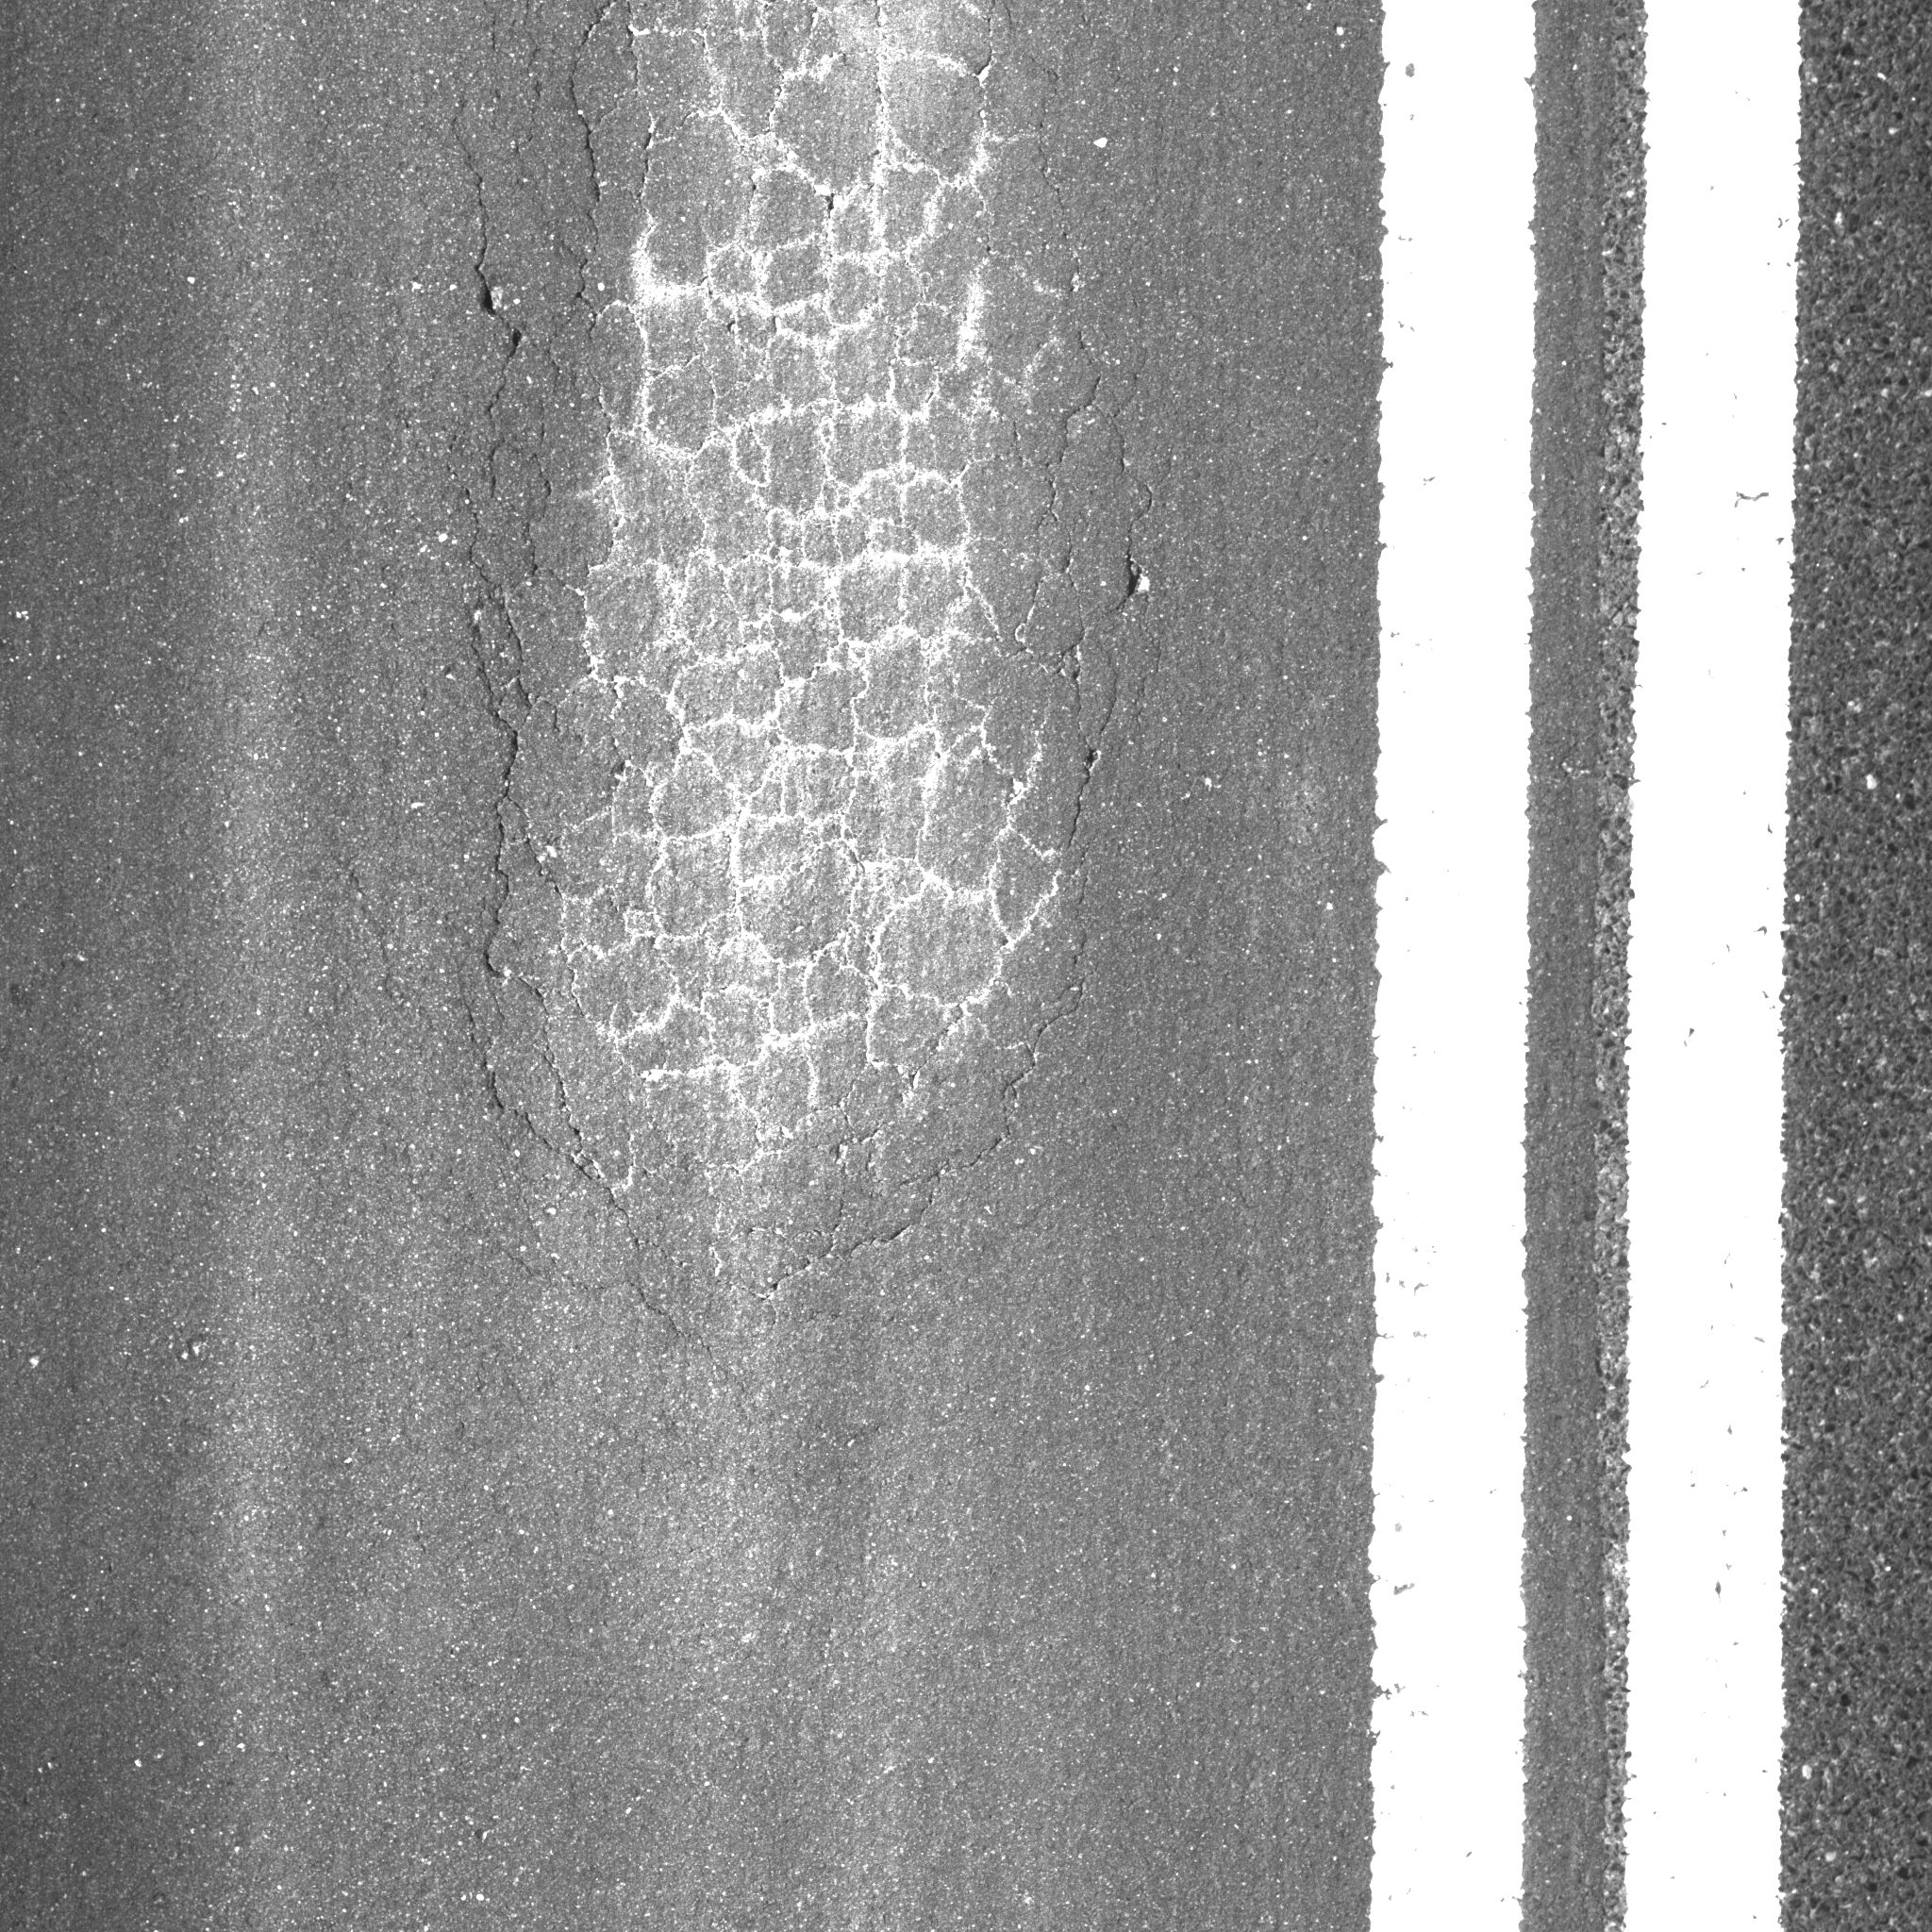alligator: (387, 7, 1171, 1348)
